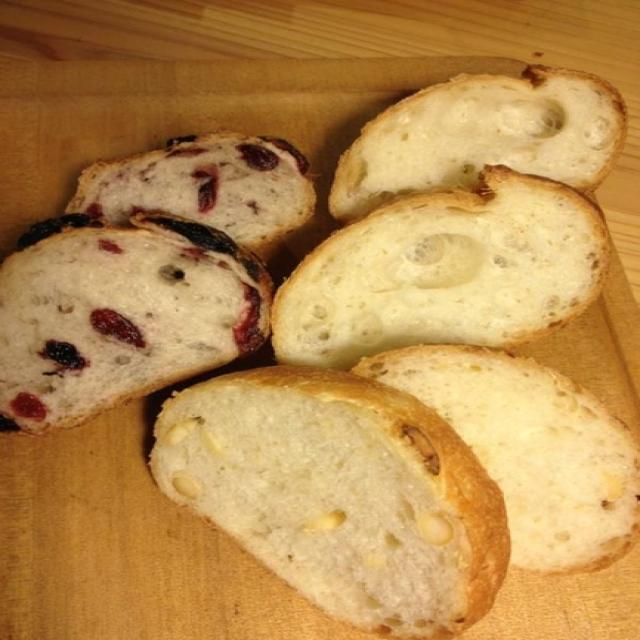面包点心: (3, 31, 636, 629)
